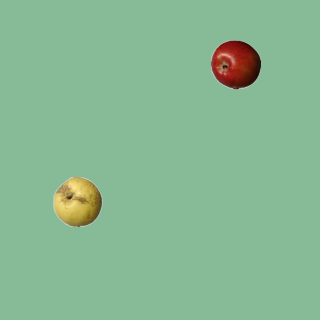Apple Braeburn: (210, 39, 260, 89)
Apple Golden 1: (52, 176, 102, 226)
